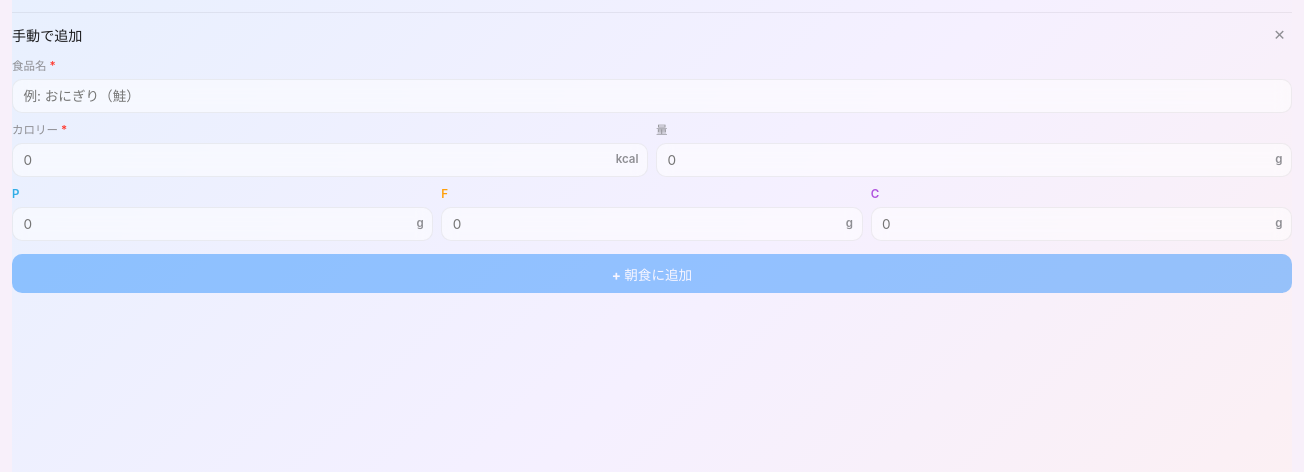
ManualEntry › 名前とカロリーを入力すると送信ボタンが有効になる
Type "おにぎり" into the field with placeholder "例: おにぎり（鮭）".
click(652, 96); type("おにぎり")  # box left=12, top=79, right=1292, bottom=113
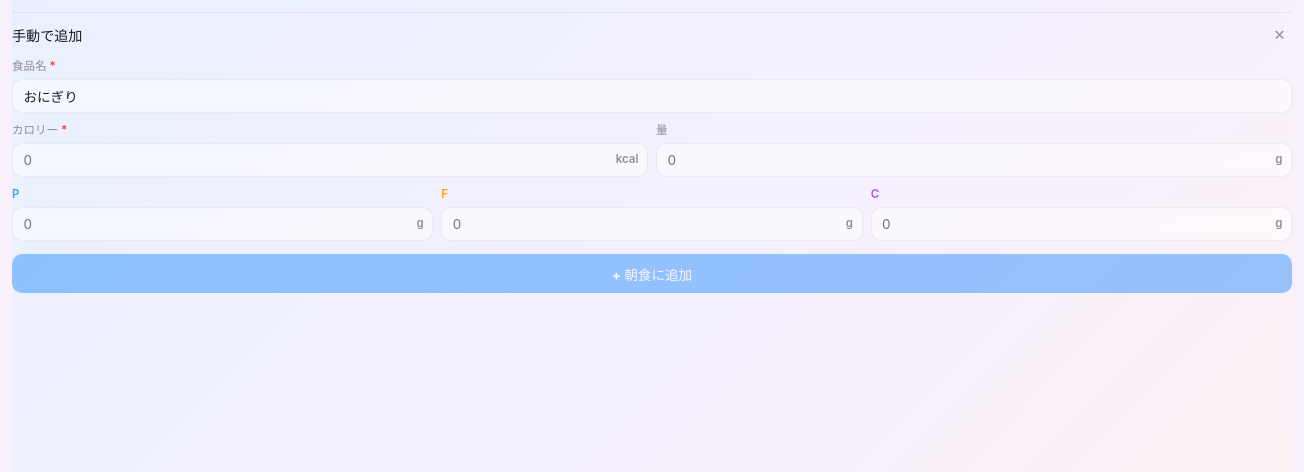
Type "180" into the number field with placeholder "0" next to "kcal".
click(330, 160); type("180")  # box left=12, top=143, right=648, bottom=177
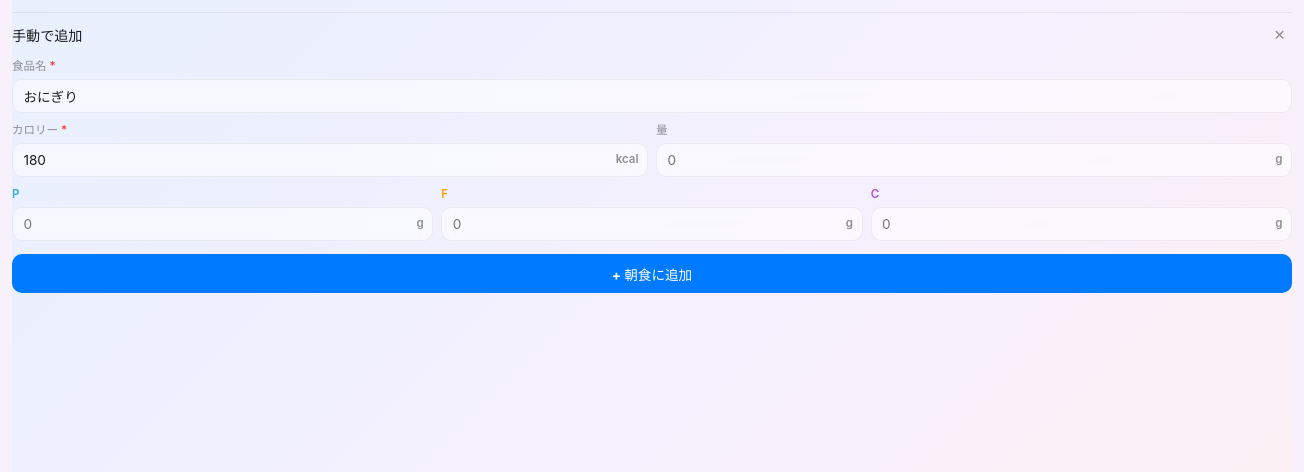
Result: the button "+ 朝食に追加" is enabled at left=12, top=254, right=1292, bottom=294
